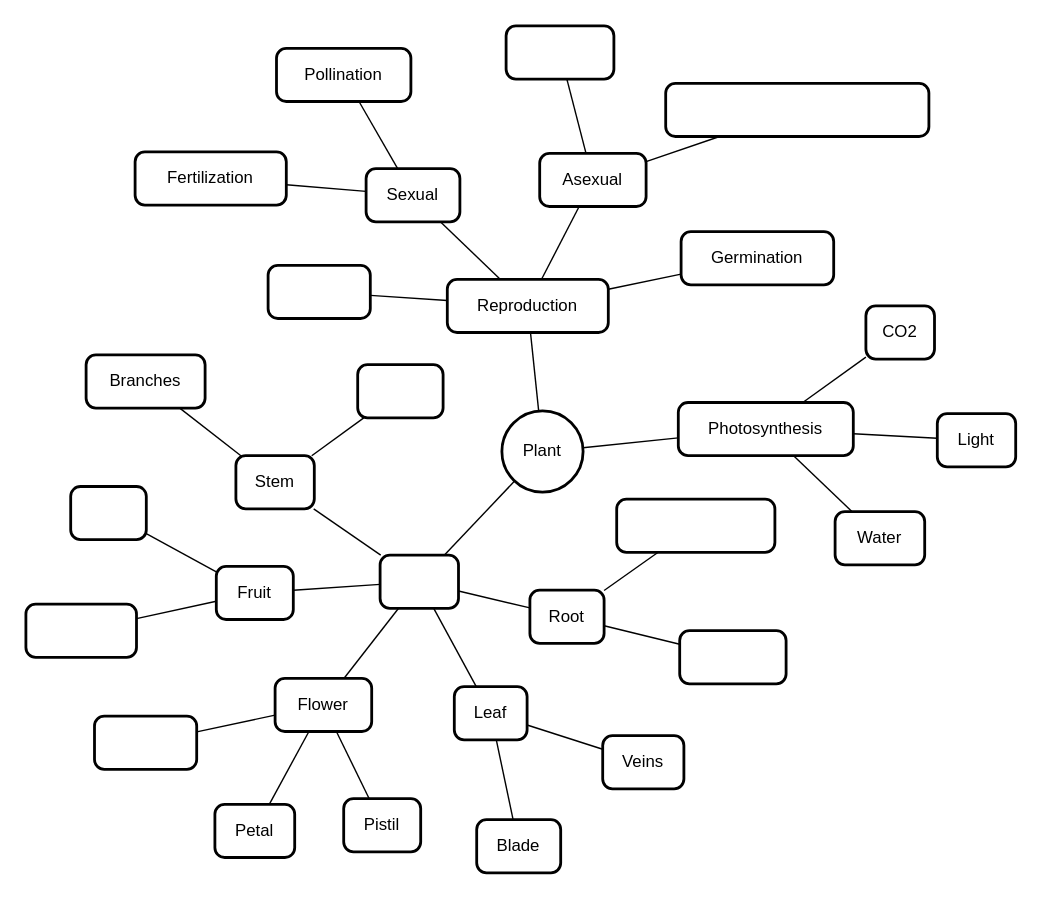
Some shapes in this 1040 by 897 pixel diagram are drawn without their labels. The shapes that lost their labels are listed below. From the top down, each one's centre as x and y in pixels, then its label:
(559,52): Budding
(797,109): Vegetative propagation
(318,291): Growth
(400,391): Trunk
(108,512): Seed
(695,525): Fibrous roots
(418,581): Parts
(80,630): Pericarp
(732,657): Taproot
(144,742): Stamen
